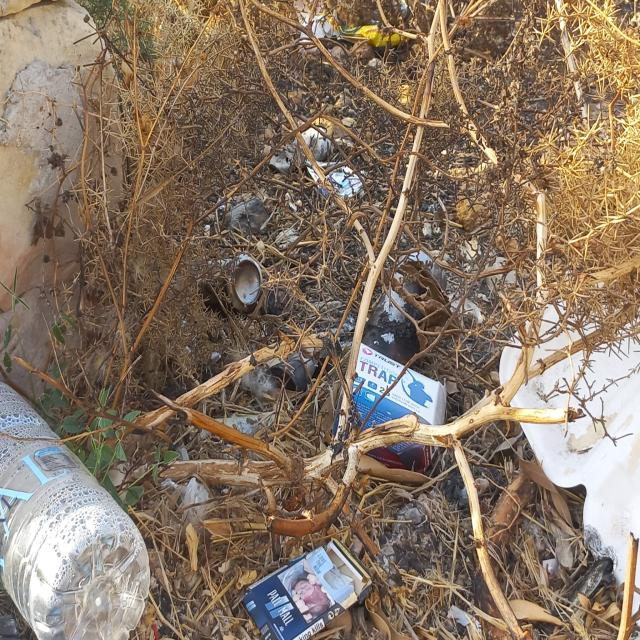Bottle: (0, 379, 152, 640)
Can: (197, 254, 263, 311), (270, 126, 333, 176)
Carton: (333, 341, 447, 473), (241, 536, 374, 640)
Other litter: (273, 248, 451, 392), (227, 196, 271, 237)
Other plastic: (294, 0, 411, 50), (161, 448, 215, 535), (306, 158, 369, 204), (193, 412, 276, 444)
Plastic bag - wrapper: (340, 24, 413, 48)
Styrofoam piece: (497, 274, 640, 631)
